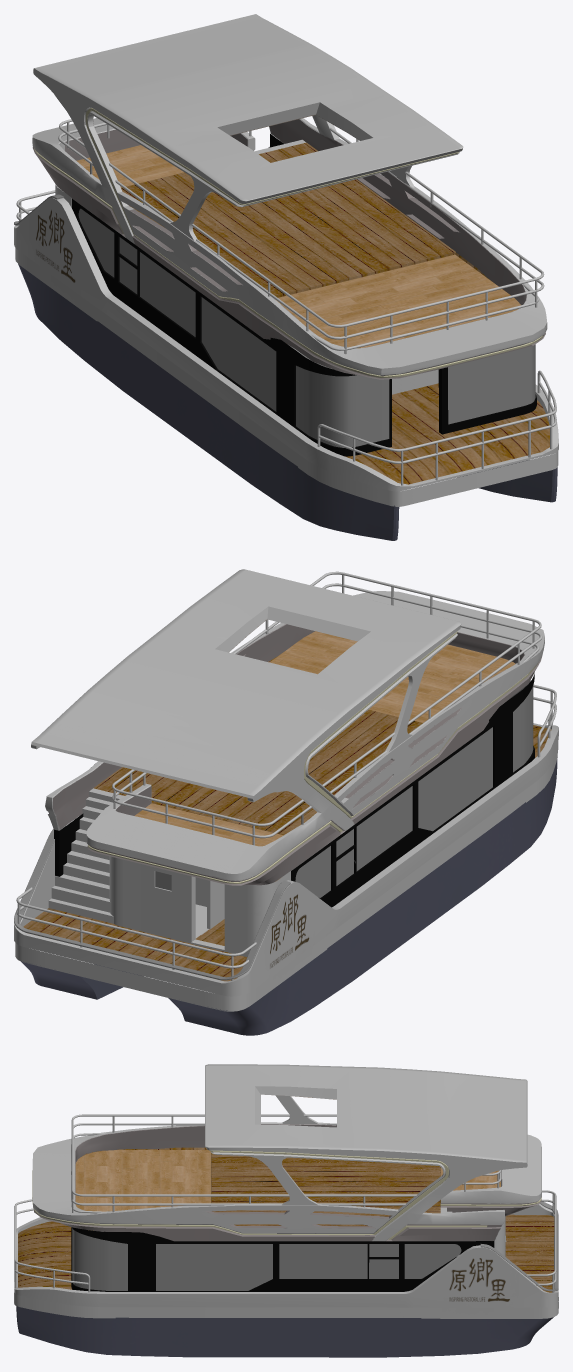
Rendered from TwoLayerBoat.glb.
The picture shows the model from 3 angles, top to bottom: view 1: azimuth 30°, elevation 25°; view 2: azimuth 150°, elevation 25°; view 3: azimuth 270°, elevation 25°; orthographic projection. The views are drawn at different scales.
Parts seen in each view (by area): view 1: Box007, Box018, Box015, 对象004, Cylinder019, Cylinder010, Box023; view 2: Box007, Box015, Box018, 对象004, Cylinder019, Cylinder010, Box023; view 3: Box007, Box015, Box018, 对象004, Cylinder019, Box023, Cylinder010.
Boxes of the visible parts, x1,y1,x2,y2 form: Box007: (14,14,547,456); Box018: (76,142,549,484); Box015: (14,139,558,540); 对象004: (78,208,535,447); Cylinder019: (58,119,544,354); Cylinder010: (16,189,556,485); Box023: (34,108,543,377); Box007: (14,569,544,980); Box015: (14,723,558,1035); Box018: (23,631,551,981); 对象004: (155,680,533,897); Cylinder019: (112,571,542,845); Cylinder010: (16,684,556,980); Box023: (88,631,537,883); Box007: (32,1064,558,1291); Box015: (14,1204,558,1357); Box018: (18,1147,554,1292); 对象004: (72,1228,461,1290); Cylinder019: (71,1114,501,1213); Box023: (32,1150,541,1239); Cylinder010: (14,1190,556,1292).
Size of the model in its own units: 5.22 by 5.83 by 13.74.
2 materials, 2 textured.
